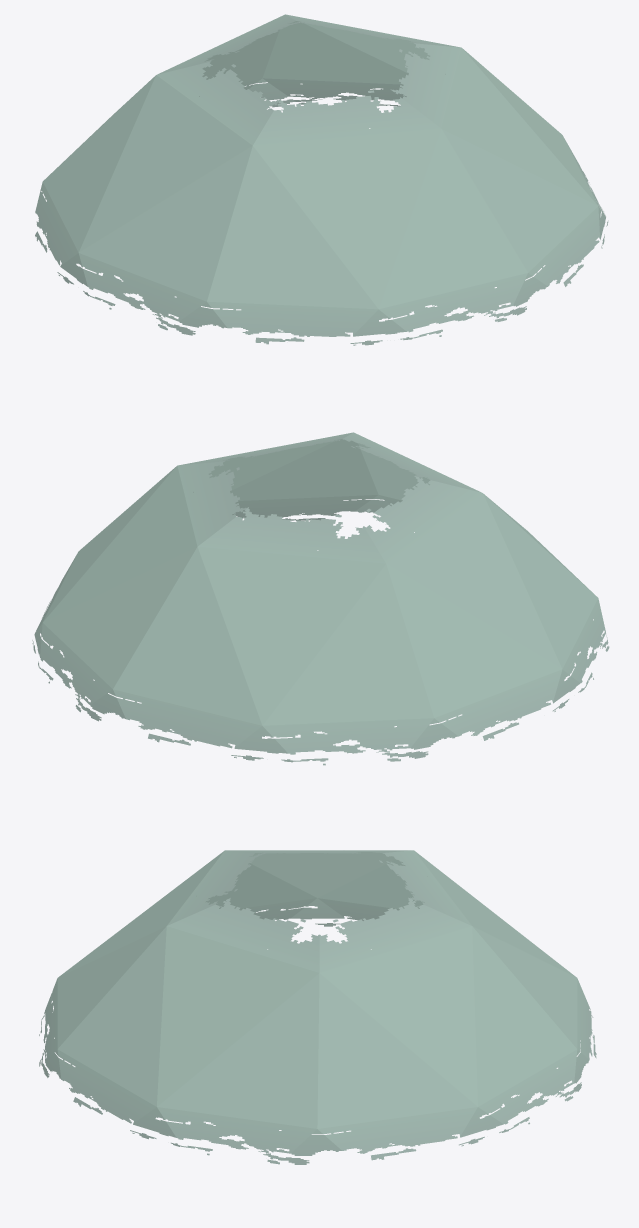
The model's file is uvmd-0366.glb.
3 views of the same model, one above another, from view 1: azimuth 30°, elevation 25°; view 2: azimuth 150°, elevation 25°; view 3: azimuth 270°, elevation 25° (orthographic). The views are drawn at different scales.
Parts seen in each view (by area): view 1: uvmd-0366; view 2: uvmd-0366; view 3: uvmd-0366.
Part boxes in pixels (left/top/right/bottom): uvmd-0366: left=35, top=14, right=608, bottom=345; uvmd-0366: left=32, top=432, right=609, bottom=765; uvmd-0366: left=39, top=850, right=596, bottom=1164.
Size of the model in its own units: 3400 by 1500 by 3576.
Materials: 1 (1 with a texture image).
